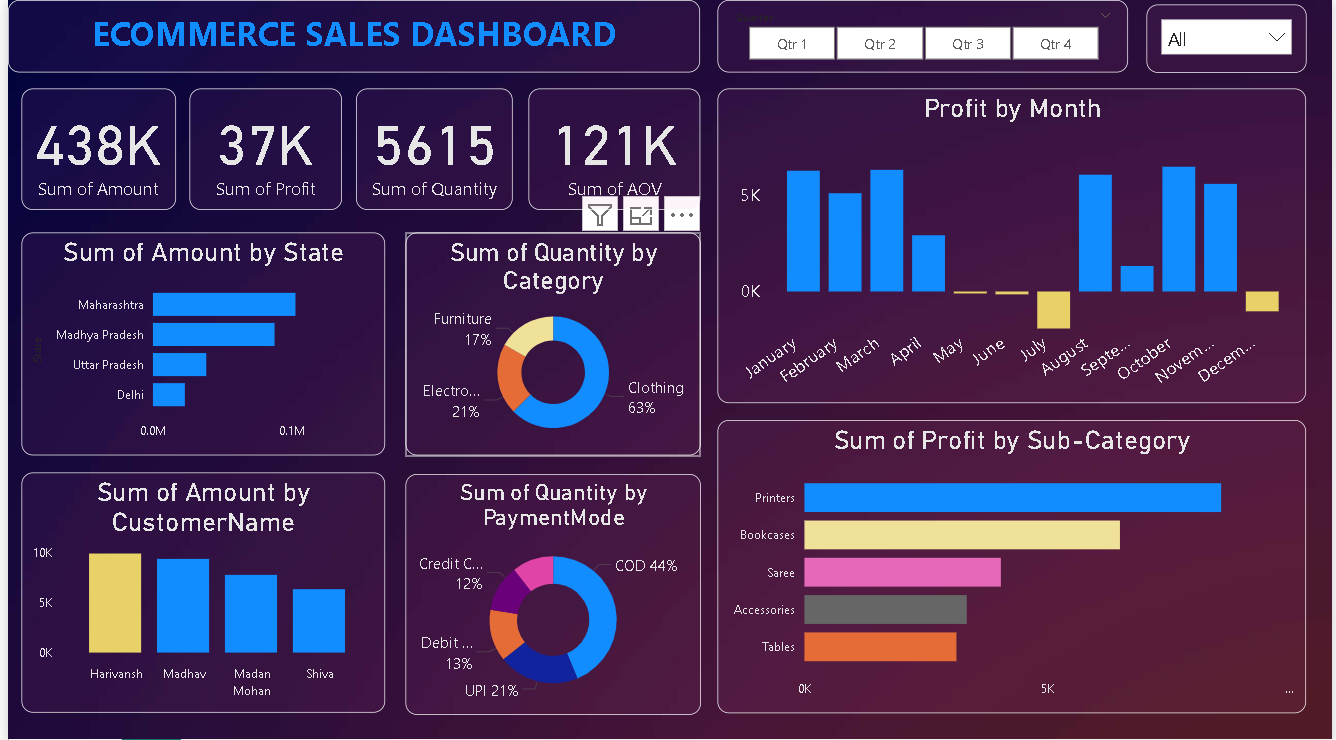

This screenshot's page, from the dashboard's own definition file:
{"tool":"powerbi","page":{"name":"Page 1","canvas":[1280,720],"ordinal":0},"visuals":[{"type":"textbox","box":[0,0,669,69.9],"z":0},{"type":"columnChart","title":"Profit by Month","fields":{"Category":["Orders.Order Date.Variation.Date Hierarchy.Month"],"Y":["Details.Profit"]},"box":[686,85,568.8,304.3],"z":1000},{"type":"barChart","fields":{"Category":["Details.Sub-Category"],"Y":["Details.Profit"]},"box":[686,406.3,568.8,283.5],"z":2000},{"type":"donutChart","fields":{"Category":["Details.Category"],"Y":["Details.Quantity"]},"box":[383.6,224.9,285.4,215.4],"z":3000},{"type":"donutChart","fields":{"Category":["Details.PaymentMode"],"Y":["Details.Quantity"]},"box":[383.6,457.3,285.4,232.4],"z":4000},{"type":"card","fields":{"Values":["Details.Amount"]},"box":[13.2,85,149.3,117.2],"z":5000},{"type":"card","fields":{"Values":["Details.Profit"]},"box":[175.7,85,147.4,117.2],"z":6000},{"type":"card","fields":{"Values":["Details.Quantity"]},"box":[336.4,85,151.2,117.2],"z":7000},{"type":"card","fields":{"Values":["Details.AOV"]},"box":[502.7,85,166.3,117.2],"z":8000},{"type":"barChart","fields":{"Y":["Details.Amount"],"Category":["Orders.State"]},"box":[13.2,224.9,351.5,215.4],"z":9000},{"type":"columnChart","fields":{"Category":["Orders.CustomerName"],"Y":["Details.Amount"]},"box":[13,457,351,232],"z":10000},{"type":"slicer","fields":{"Values":["Orders.Order Date.Variation.Date Hierarchy.Quarter"]},"box":[686,0,396.9,69.9],"z":11000},{"type":"slicer","fields":{"Values":["Orders.State"]},"box":[1099.9,3.8,155,66.1],"z":12000}]}

Visuals, with their boxes in screenshot pixels (x1, y1, x2, y2), scaled from the page's 1280x720 canvas onto the 1336x740 screenshot:
textbox: (0,0,698,72)
"Profit by Month" columnChart: (716,87,1310,400)
barChart - Details.Sub-Category x Details.Profit: (716,418,1310,709)
donutChart - Details.Category x Details.Quantity: (400,231,698,453)
donutChart - Details.PaymentMode x Details.Quantity: (400,470,698,709)
card - Details.Amount: (14,87,170,208)
card - Details.Profit: (183,87,337,208)
card - Details.Quantity: (351,87,509,208)
card - Details.AOV: (525,87,698,208)
barChart - Details.Amount x Orders.State: (14,231,381,453)
columnChart - Orders.CustomerName x Details.Amount: (14,470,380,708)
slicer - Orders.Order Date.Variation.Date Hierarchy.Quarter: (716,0,1130,72)
slicer - Orders.State: (1148,4,1310,72)
